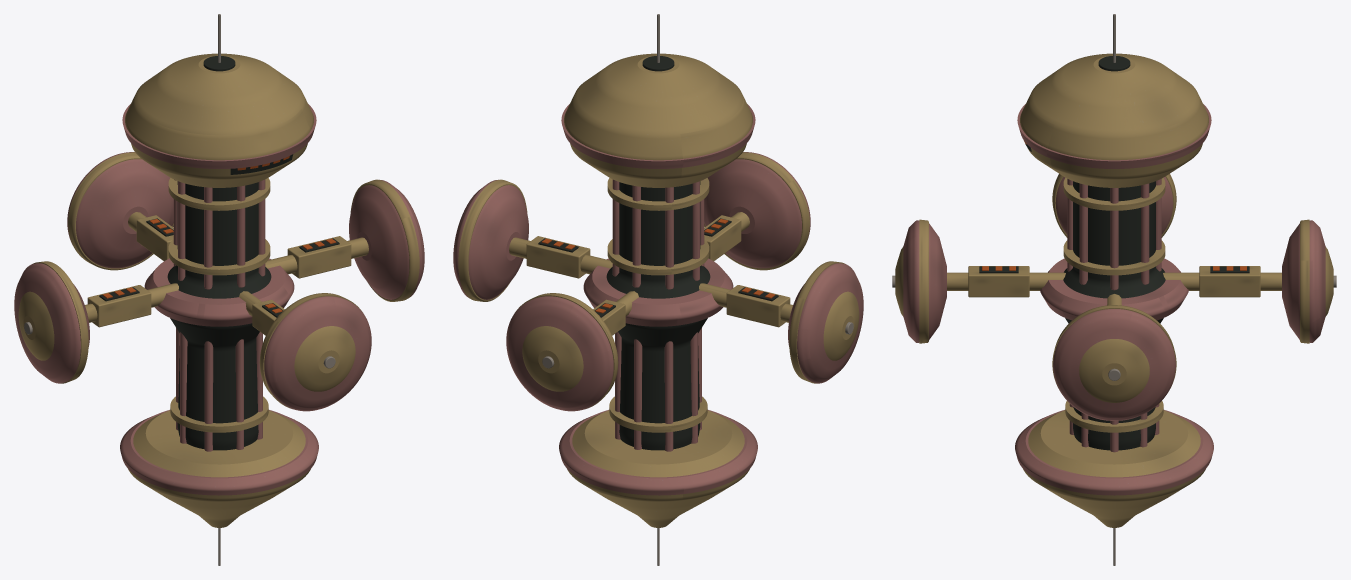
The picture shows the model from 3 angles, left to right: view 1: azimuth 30°, elevation 25°; view 2: azimuth 150°, elevation 25°; view 3: azimuth 270°, elevation 25°; orthographic projection.
Parts seen in each view (by area): view 1: SkyMech upper gold dome, SkyMech dark axial core, SkyMech lower gold cone, SkyMech rose radial module 1, SkyMech rose radial module 3, SkyMech rose radial module 0, SkyMech lower rose rim, SkyMech rose radial module 2, SkyMech rose equatorial collar, SkyMech gold module face 3, SkyMech upper rose rim, SkyMech gold module face 2 (+20 smaller); view 2: SkyMech upper gold dome, SkyMech dark axial core, SkyMech lower gold cone, SkyMech rose radial module 3, SkyMech rose radial module 1, SkyMech rose radial module 0, SkyMech lower rose rim, SkyMech rose radial module 2, SkyMech rose equatorial collar, SkyMech gold module face 1, SkyMech upper rose rim, SkyMech gold module face 2 (+20 smaller); view 3: SkyMech upper gold dome, SkyMech lower gold cone, SkyMech rose radial module 0, SkyMech dark axial core, SkyMech lower rose rim, SkyMech gold module face 0, SkyMech rose radial module 1, SkyMech rose radial module 3, SkyMech rose equatorial collar, SkyMech upper rose rim, SkyMech arm service housing 1, SkyMech arm service housing 3 (+12 smaller).
Part boxes in pixels (x1,y1,x2,y2): SkyMech upper gold dome: (125,53,313,187); SkyMech dark axial core: (167,181,271,450); SkyMech lower gold cone: (128,410,310,527); SkyMech rose radial module 1: (67,152,173,268); SkyMech rose radial module 3: (264,296,371,411); SkyMech rose radial module 0: (349,179,424,299); SkyMech lower rose rim: (120,410,318,495); SkyMech rose radial module 2: (14,263,89,383); SkyMech rose equatorial collar: (144,258,294,326); SkyMech gold module face 3: (294,326,355,391); SkyMech upper rose rim: (122,104,316,168); SkyMech gold module face 2: (18,291,54,360); SkyMech upper gold dome: (564,53,752,187); SkyMech dark axial core: (606,181,710,450); SkyMech lower gold cone: (567,410,749,527); SkyMech rose radial module 3: (704,152,810,268); SkyMech rose radial module 1: (506,296,613,411); SkyMech rose radial module 0: (453,179,528,299); SkyMech lower rose rim: (559,410,757,495); SkyMech rose radial module 2: (788,263,863,383); SkyMech rose equatorial collar: (583,258,733,326); SkyMech gold module face 1: (522,326,583,391); SkyMech upper rose rim: (561,104,755,168); SkyMech gold module face 2: (823,291,859,360); SkyMech upper gold dome: (1020,53,1208,187); SkyMech lower gold cone: (1023,410,1205,527); SkyMech rose radial module 0: (1053,309,1175,420); SkyMech dark axial core: (1063,181,1165,450); SkyMech lower rose rim: (1015,410,1213,495); SkyMech gold module face 0: (1079,339,1149,402); SkyMech rose radial module 1: (1282,220,1325,342); SkyMech rose radial module 3: (903,220,946,342); SkyMech rose equatorial collar: (1040,258,1188,320); SkyMech upper rose rim: (1017,104,1211,168); SkyMech arm service housing 1: (1199,266,1260,297); SkyMech arm service housing 3: (968,266,1029,297).
Size of the model in its own units: 3.62 by 4.95 by 3.62.
Materials: 5 (2 with a texture image).
